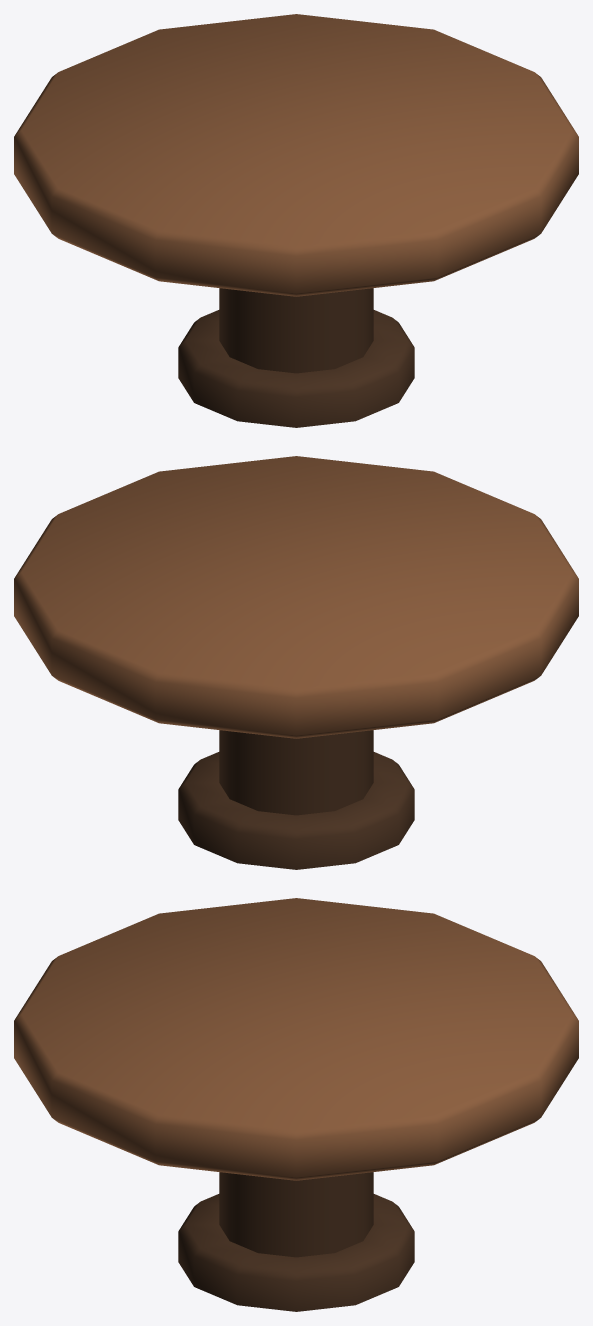
Rendered from Table-2.fbx.
3 renders of one model, top to bottom at view 1: azimuth 30°, elevation 25°; view 2: azimuth 150°, elevation 25°; view 3: azimuth 270°, elevation 25°, orthographic.
Parts seen in each view (by area): view 1: Cylinder.200; view 2: Cylinder.200; view 3: Cylinder.200.
Boxes of the visible parts, x1,y1,x2,y2 form: Cylinder.200: [14, 14, 578, 427]; Cylinder.200: [14, 456, 578, 869]; Cylinder.200: [14, 898, 578, 1311].
Bounding box in the file's own units: 42.81 × 20.72 × 42.81.
